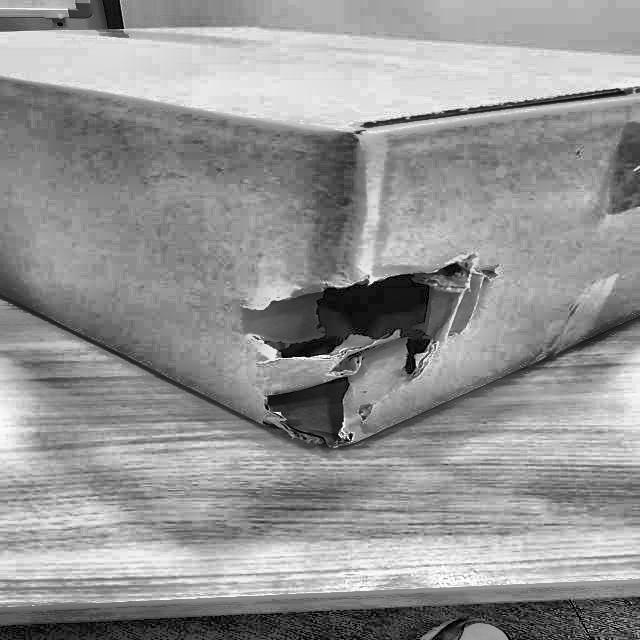box: (0, 12, 639, 465)
hole: (233, 254, 493, 430)
